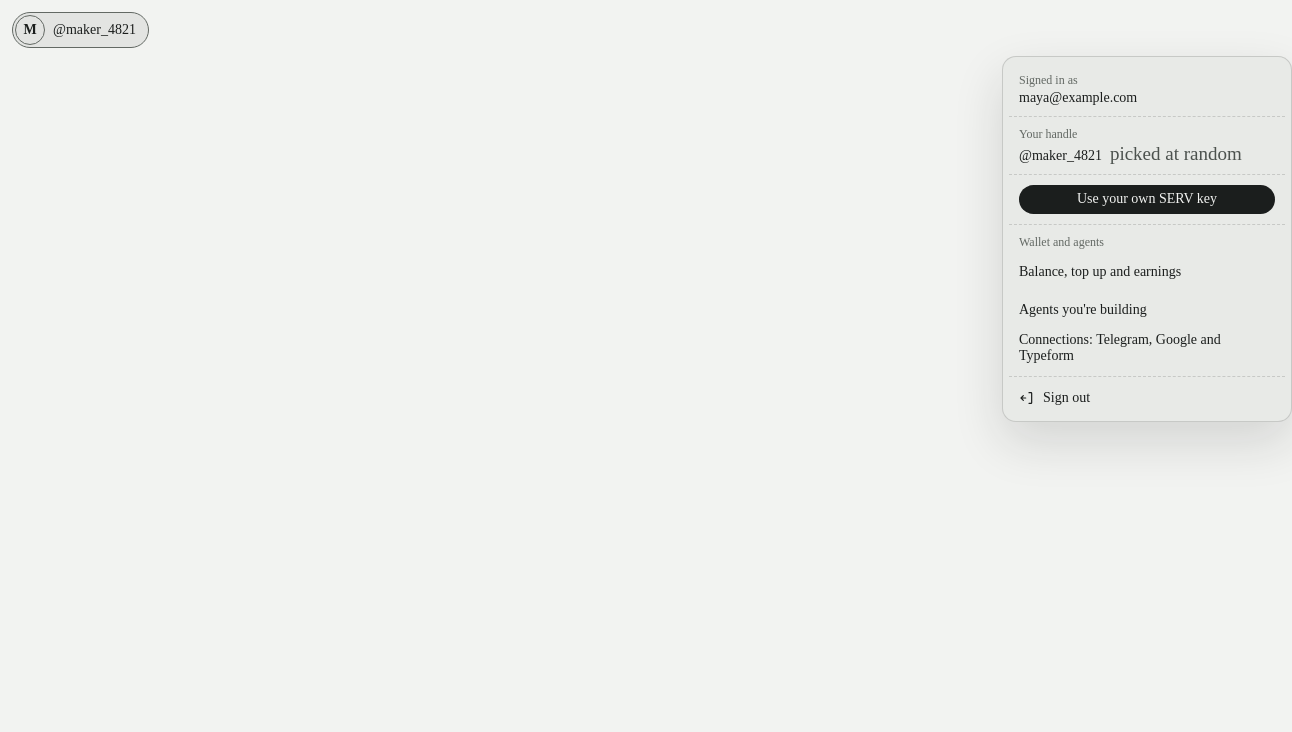
it: Your SERV key › keeps the field open with the reason when the key is turned away
The image size is (1292, 732).
Click the button "Use your own SERV key": (1147,199) [1019,185,1275,214]
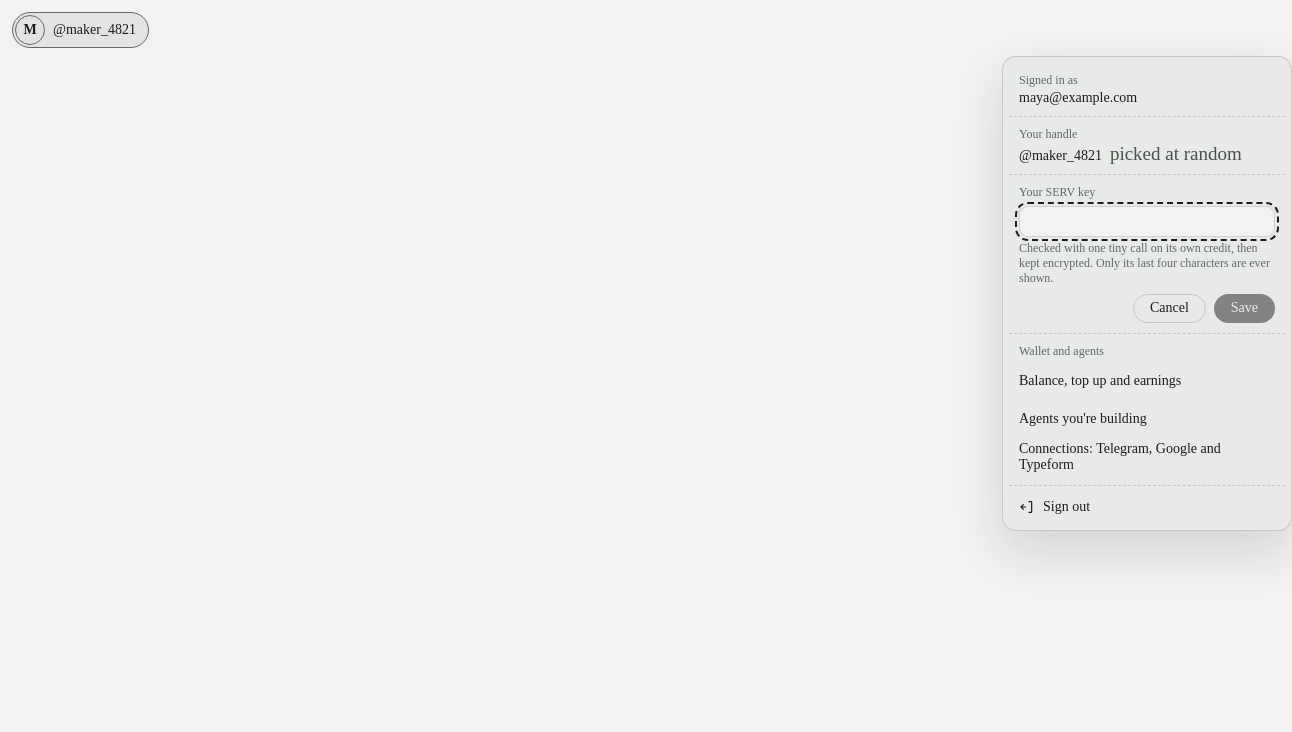
In the password field labelled "Your SERV key": (1147,222) [1019,206,1275,237], type "sk-wrong-key"
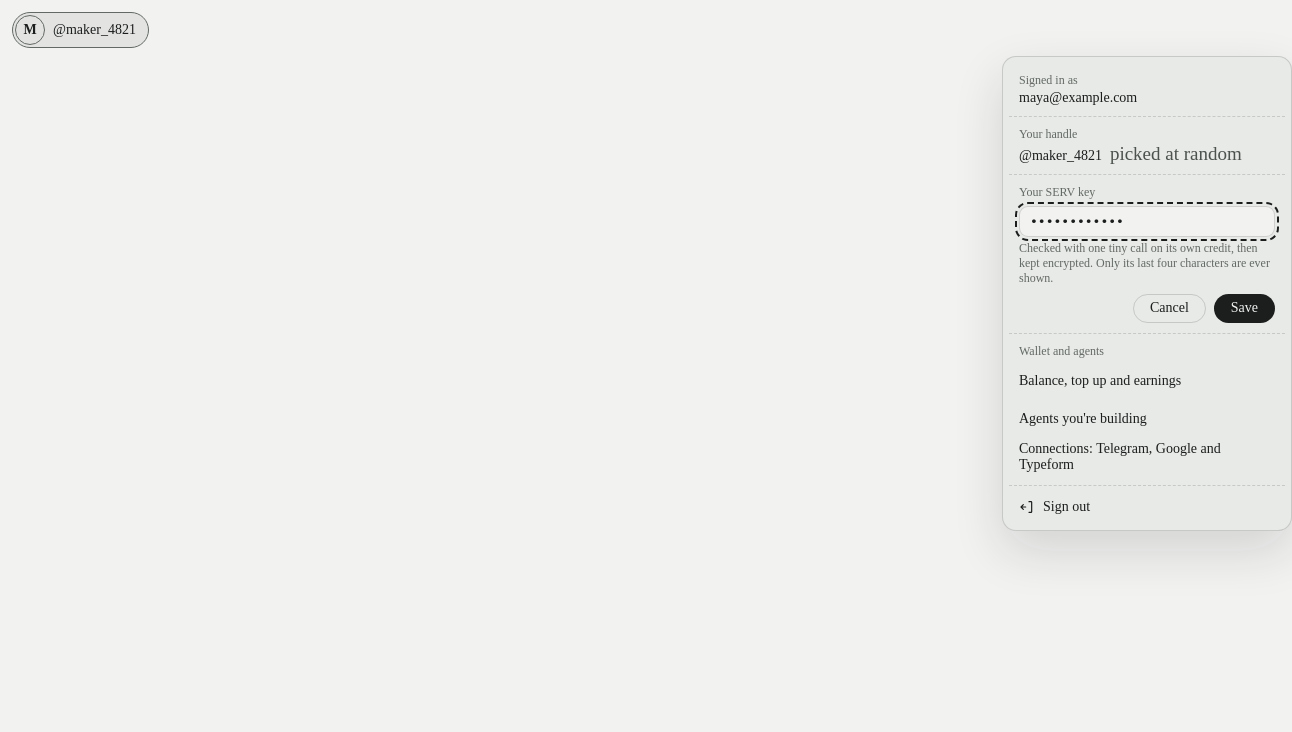
Click the button "Save": (1244,308) [1214,294,1275,322]
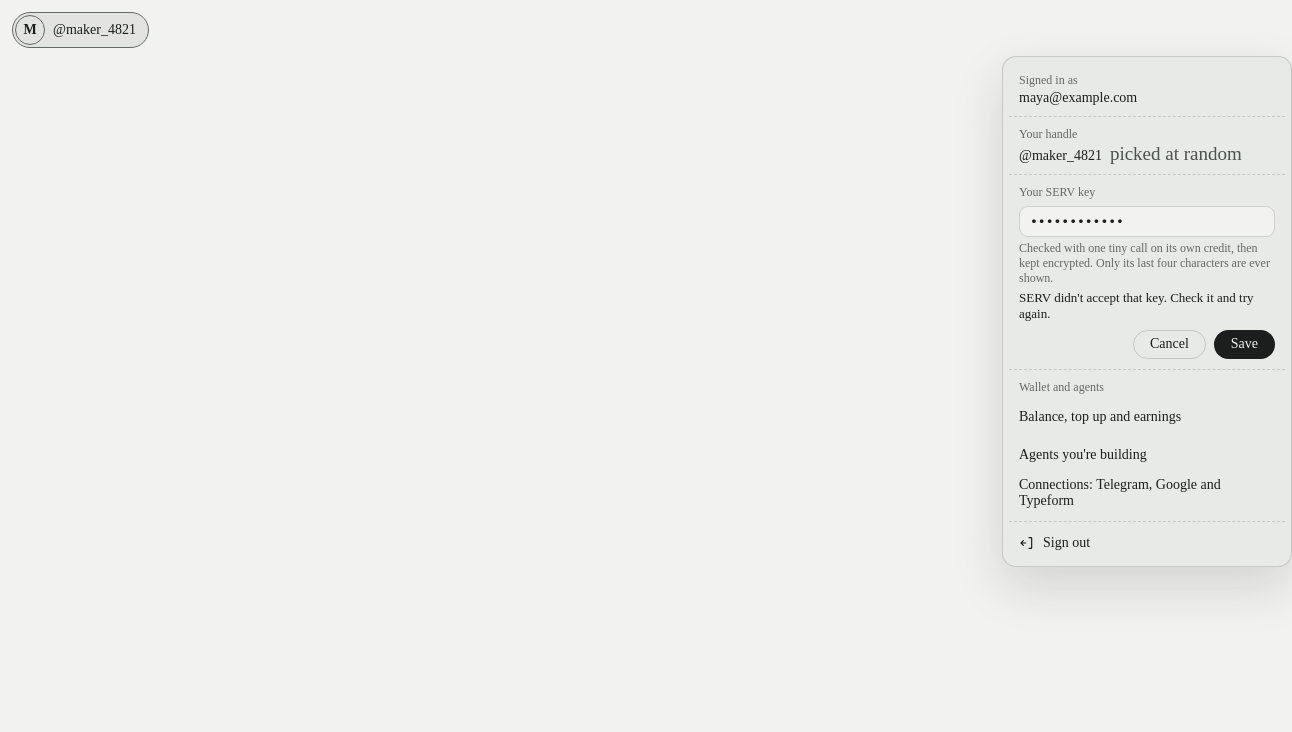
Check: the message reads "SERV didn't accept that key. Check it and try again.", box [1019,290,1254,321]
